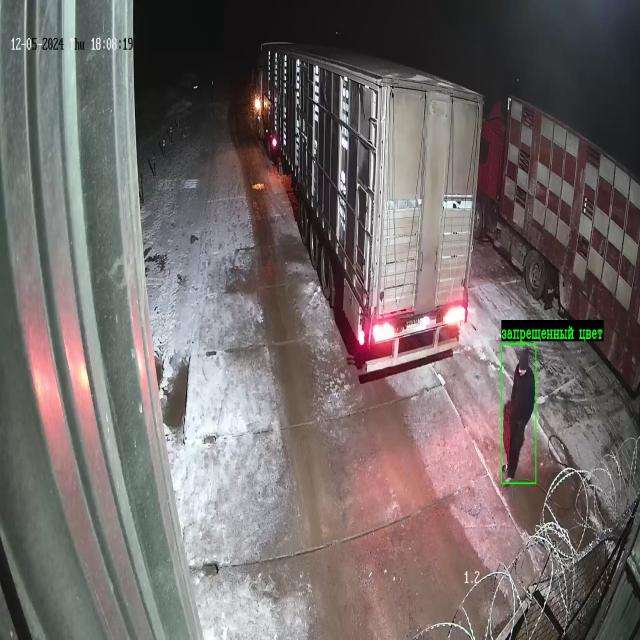Person: (505, 346, 534, 479)
